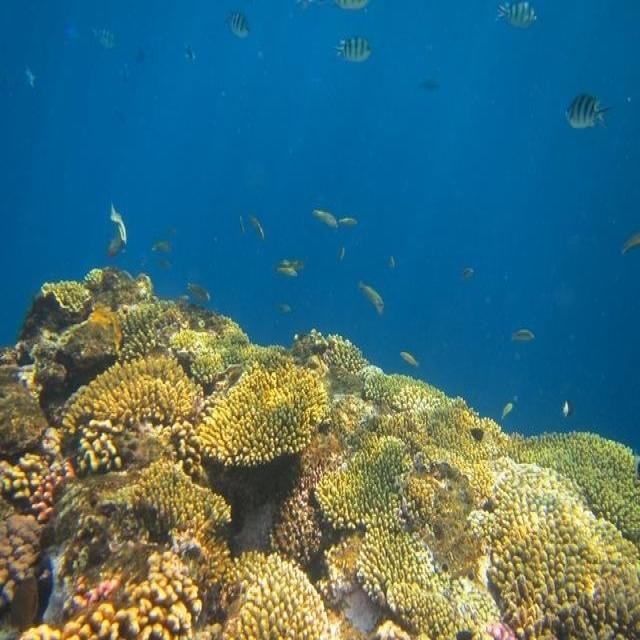fish: (566, 91, 614, 131), (496, 2, 537, 26), (337, 38, 373, 60), (226, 12, 250, 38)
reefs: (22, 462, 328, 639), (363, 376, 639, 534), (316, 437, 496, 639), (472, 462, 639, 639), (172, 316, 329, 466), (60, 353, 206, 479), (271, 401, 373, 562)
